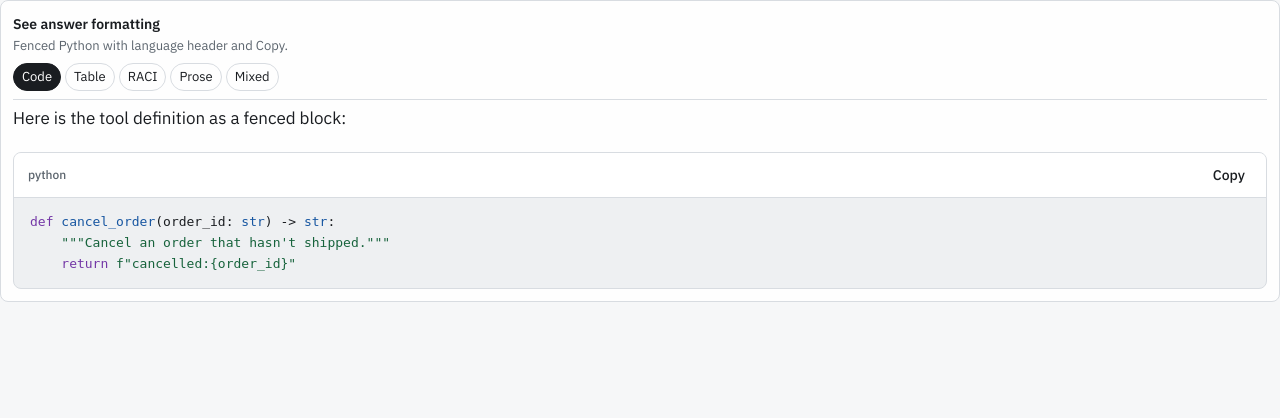
it: AnswerFormatGallery › renders bold and lists for the Prose sample
Click the tab "Prose": {"x": 196, "y": 77} [170,63,222,91]
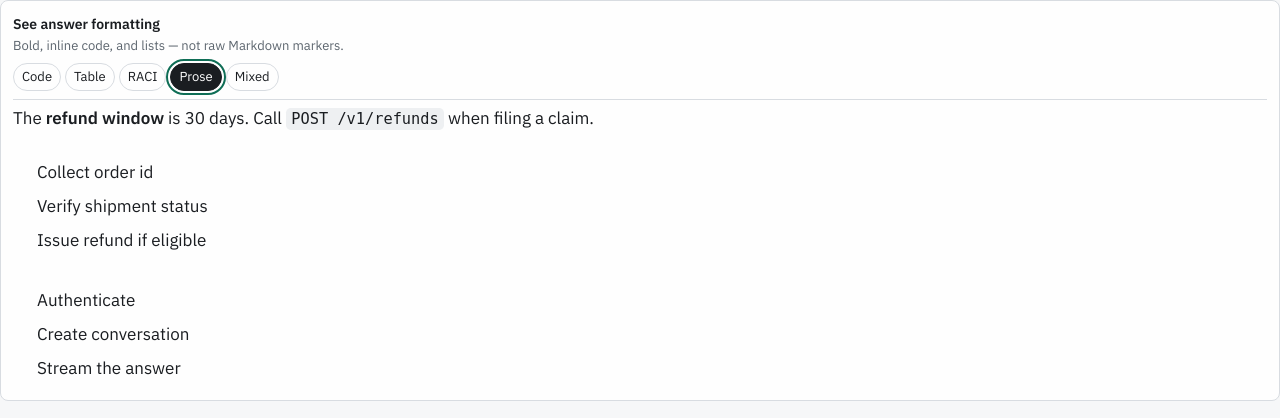
Now the text "refund window" is shown, box [46,107,164,129]
Now the list that starts with "Collect order id" is shown, box [37,161,208,251]
Now the list "Authenticate Create conversation Stream the answer" is shown, box [37,289,189,379]
